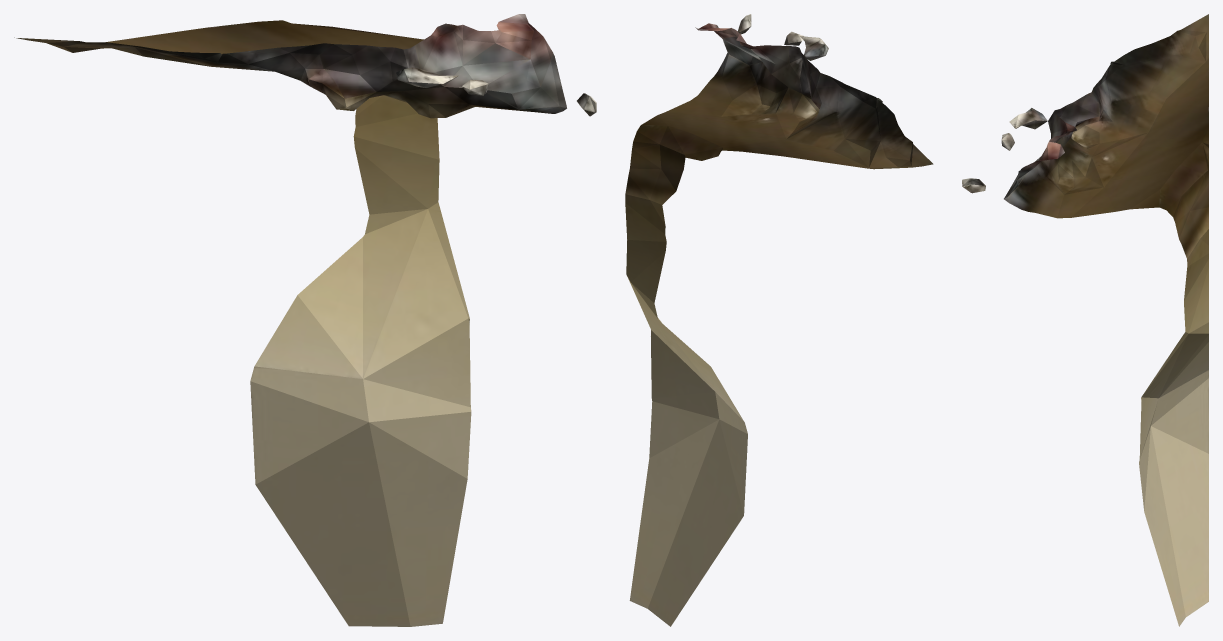
The picture shows the model from 3 angles, left to right: view 1: azimuth 30°, elevation 25°; view 2: azimuth 150°, elevation 25°; view 3: azimuth 270°, elevation 25°; orthographic projection. The views are drawn at different scales.
Bounding box in the file's own units: 1.07 × 1.67 × 0.7925.
1 material, 1 textured.
